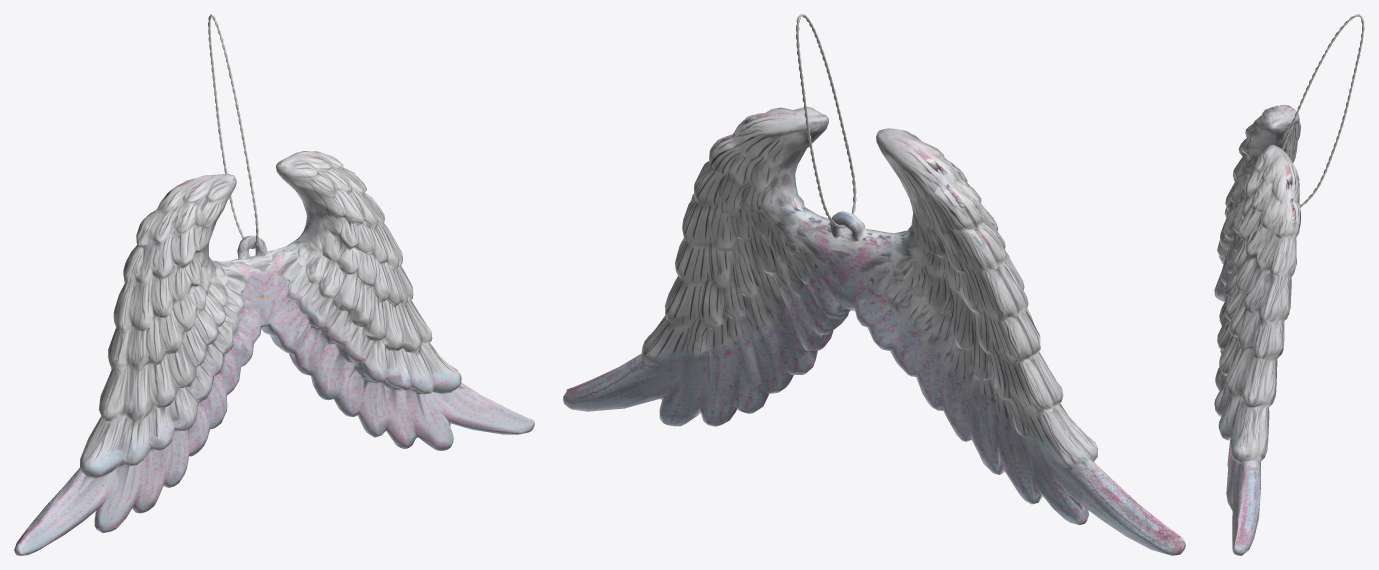
Rendered from wing.glb.
3 renders of one model, left to right at view 1: azimuth 30°, elevation 25°; view 2: azimuth 150°, elevation 25°; view 3: azimuth 270°, elevation 25°, orthographic. The views are drawn at different scales.
Parts seen in each view (by area): view 1: Meshy_AI_Iridescent_Wings_0624164919_texture, GN Instance; view 2: Meshy_AI_Iridescent_Wings_0624164919_texture, GN Instance; view 3: Meshy_AI_Iridescent_Wings_0624164919_texture, GN Instance.
Boxes of the visible parts, <box> form: Meshy_AI_Iridescent_Wings_0624164919_texture: <box>14,151,534,555</box>; GN Instance: <box>208,14,258,248</box>; Meshy_AI_Iridescent_Wings_0624164919_texture: <box>563,106,1185,555</box>; GN Instance: <box>796,14,856,228</box>; Meshy_AI_Iridescent_Wings_0624164919_texture: <box>1214,104,1300,555</box>; GN Instance: <box>1281,14,1364,207</box>.
Bounding box in the file's own units: 0.2282 × 0.1831 × 0.059.
Materials: 2 (1 with a texture image).
